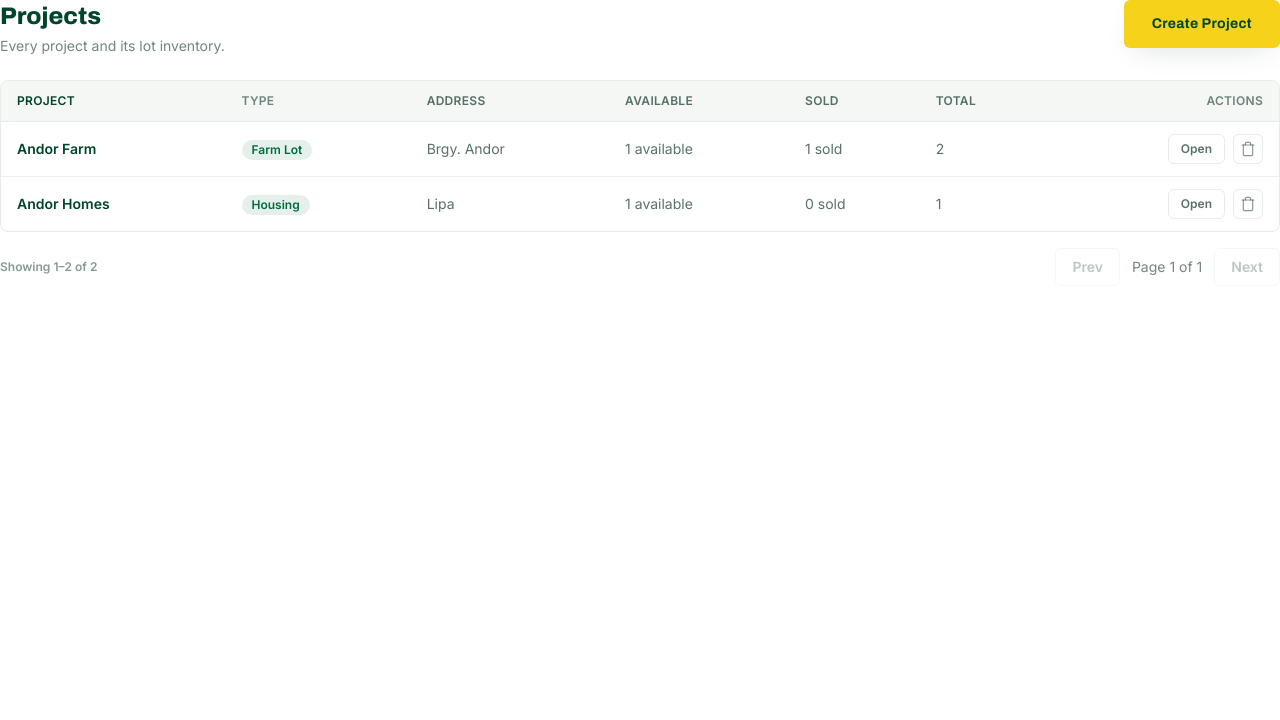
Test: AdminProjects › opens the create project modal
The image size is (1280, 720).
Click the button "Create Project" at coordinates (1202, 24), box [1124,0,1279,48]
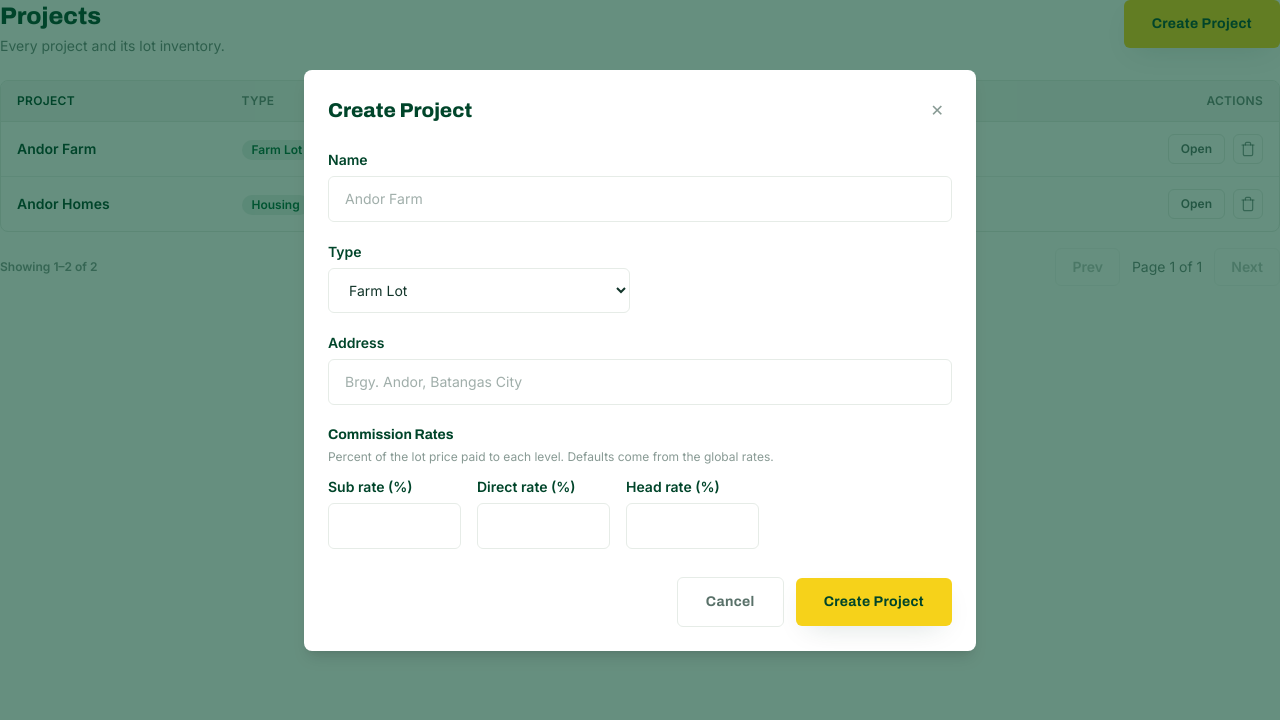
Expected: the dialog "Create Project" is shown, [304,70,976,650]
